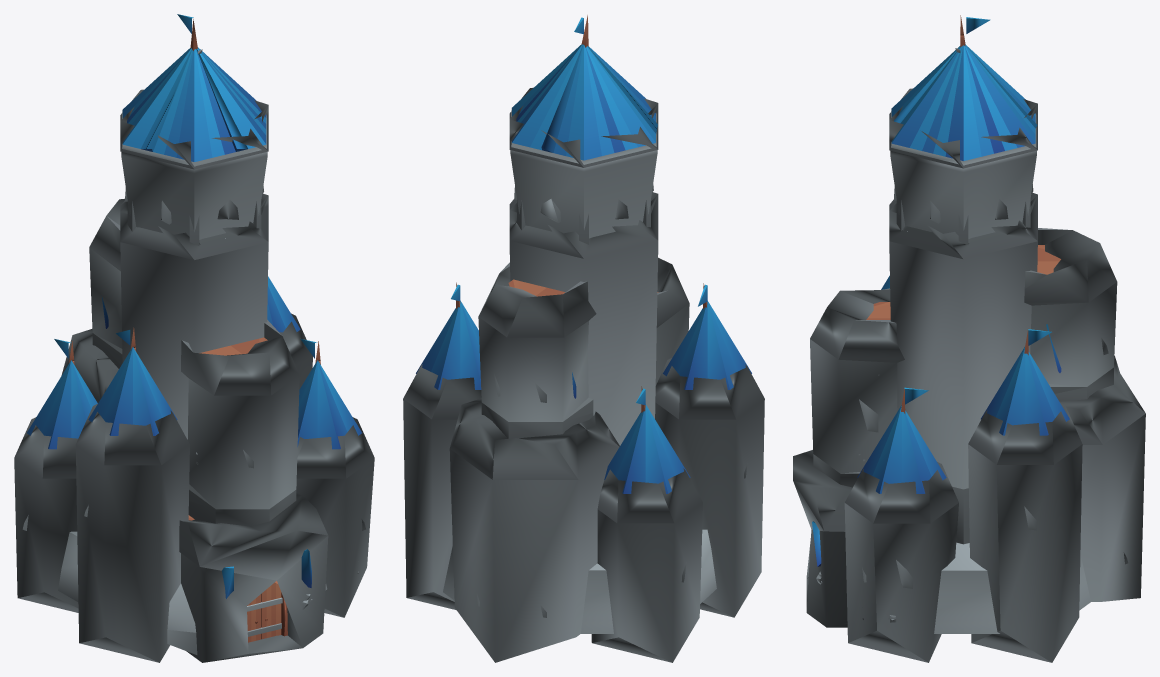
The model's file is tower_blue-small.glb.
3 views of the same model, side by side, from view 1: azimuth 30°, elevation 25°; view 2: azimuth 150°, elevation 25°; view 3: azimuth 270°, elevation 25° (orthographic).
Parts seen in each view (by area): view 1: building_castle_blue; view 2: building_castle_blue; view 3: building_castle_blue.
Boxes of the visible parts, x1,y1,x2,y2 form: building_castle_blue: [14, 14, 374, 662]; building_castle_blue: [403, 15, 764, 662]; building_castle_blue: [793, 15, 1145, 662].
Size of the model in its own units: 1.94 by 3.98 by 2.18.
1 material, 1 textured.
